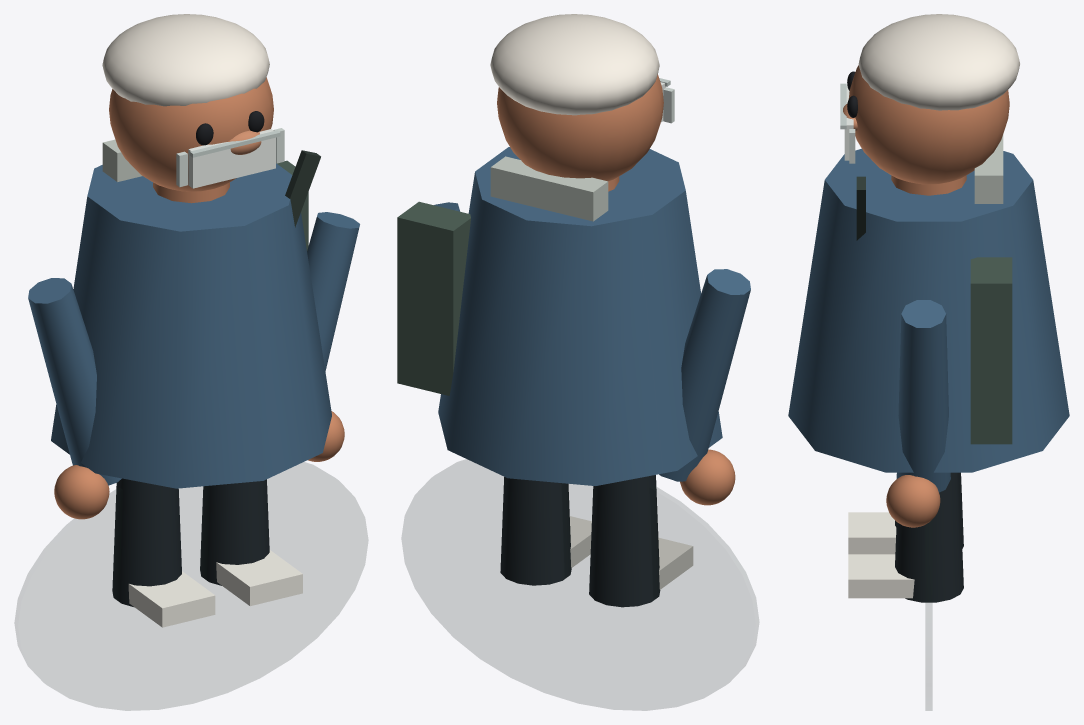
The model's file is customer_08.glb.
The picture shows the model from 3 angles, left to right: view 1: azimuth 30°, elevation 25°; view 2: azimuth 150°, elevation 25°; view 3: azimuth 270°, elevation 25°; orthographic projection. The views are drawn at different scales.
Visible parts, largest first — view 1: torso, contact_shadow, covered_hair, head, arm_-0.255, leg_-0.095, leg_0.095, arm_0.255, shoe_-0.095, shoe_0.095, medical_mask, hand_-0.255 (+5 smaller); view 2: torso, contact_shadow, covered_hair, shoulder_bag, head, leg_-0.095, arm_-0.255, leg_0.095, scarf_tail, hand_-0.255, shoe_-0.095, shoe_0.095; view 3: torso, covered_hair, head, arm_0.255, shoulder_bag, leg_0.095, shoe_0.095, hand_0.255, shoe_-0.095, scarf_tail, contact_shadow, neck (+1 smaller).
Boxes of the visible parts, box(x1,y1,x2,y2) form: torso: box(51, 163, 331, 488); contact_shadow: box(15, 462, 367, 710); covered_hair: box(102, 14, 269, 106); head: box(109, 77, 273, 191); arm_-0.255: box(28, 278, 121, 485); leg_-0.095: box(112, 478, 181, 606); leg_0.095: box(200, 479, 269, 585); arm_0.255: box(307, 212, 359, 371); shoe_-0.095: box(128, 571, 215, 627); shoe_0.095: box(216, 550, 302, 606); medical_mask: box(188, 129, 275, 188); hand_-0.255: box(54, 465, 109, 519); torso: box(438, 147, 722, 485); contact_shadow: box(402, 459, 758, 710); covered_hair: box(490, 14, 659, 115); shoulder_bag: box(397, 201, 470, 395); head: box(497, 74, 663, 181); leg_-0.095: box(589, 475, 660, 607); arm_-0.255: box(659, 269, 750, 481); leg_0.095: box(500, 477, 571, 585); scarf_tail: box(490, 156, 608, 221); hand_-0.255: box(680, 449, 735, 505); shoe_-0.095: box(658, 537, 693, 589); shoe_0.095: box(569, 516, 591, 567); torso: box(788, 148, 1069, 472); covered_hair: box(858, 14, 1019, 110); head: box(848, 65, 1009, 184); arm_0.255: box(896, 300, 950, 492); shoulder_bag: box(970, 257, 1012, 444); leg_0.095: box(895, 472, 963, 602); shoe_0.095: box(848, 554, 914, 598); hand_0.255: box(886, 475, 940, 527); shoe_-0.095: box(848, 512, 896, 554); scarf_tail: box(974, 134, 1003, 203); contact_shadow: box(926, 521, 931, 710); neck: box(891, 175, 966, 195).
Bounding box in the file's own units: 0.7752 × 1.42 × 0.5508.
